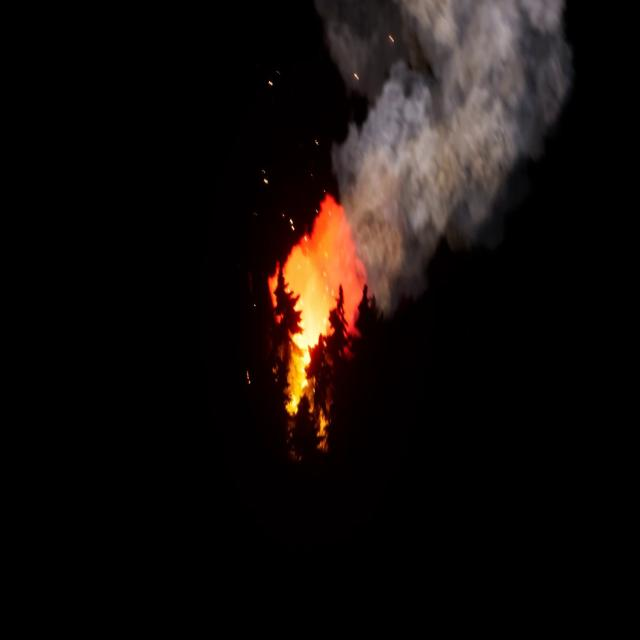smoke: (329, 0, 575, 315), (264, 193, 368, 447)
